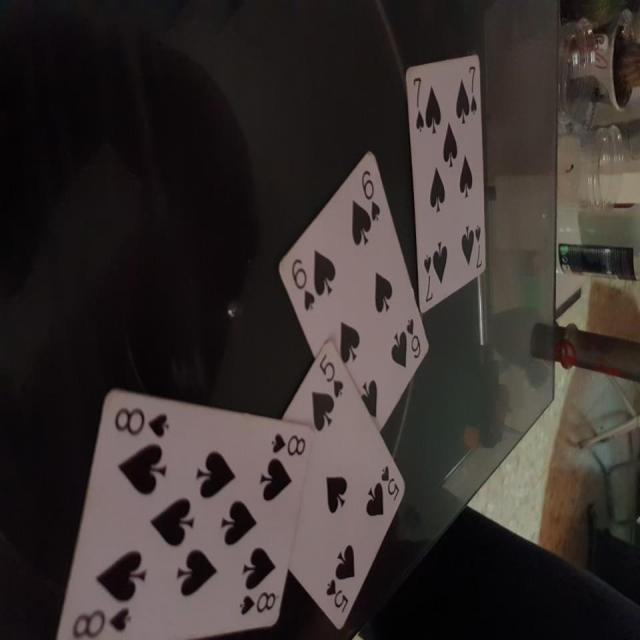5 Spades: (260, 348, 410, 640)
6 Spades: (264, 144, 432, 442)
7 Spades: (398, 45, 493, 311)
8 Spades: (36, 374, 312, 640)
